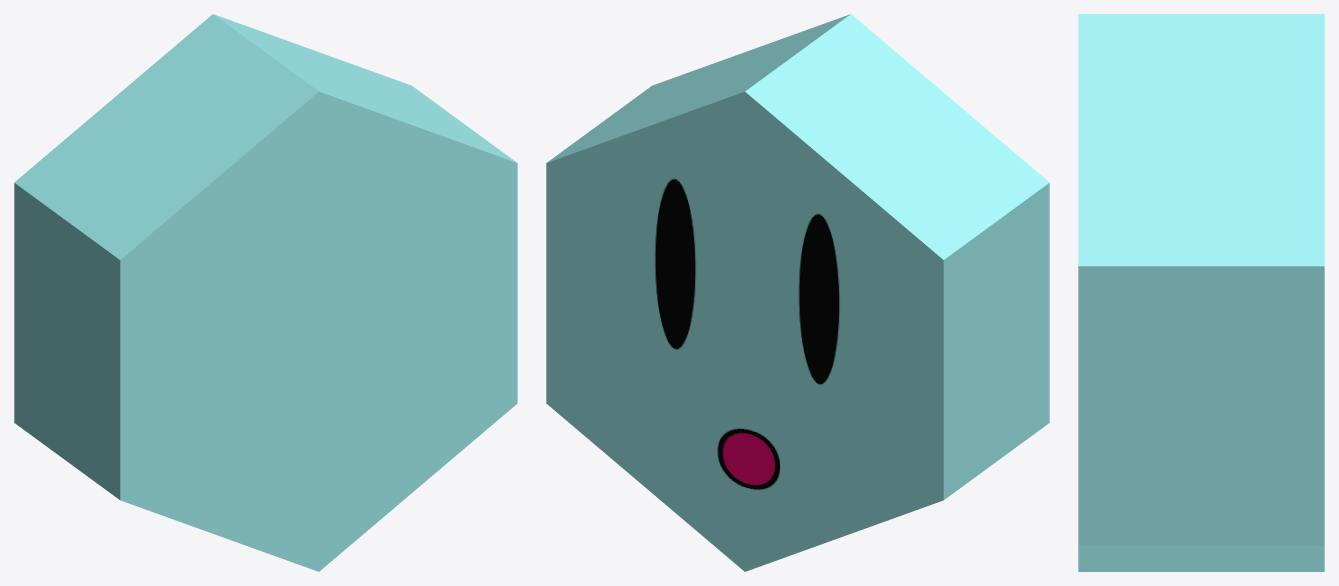
The model's file is reflectEnemy.obj.
3 views of the same model, side by side, from view 1: azimuth 30°, elevation 25°; view 2: azimuth 150°, elevation 25°; view 3: azimuth 270°, elevation 25° (orthographic). The views are drawn at different scales.
Visible parts, largest first — view 1: 円柱; view 2: 円柱; view 3: 円柱.
Boxes of the visible parts, bbox=[...] form: 円柱: bbox=[14, 14, 517, 571]; 円柱: bbox=[546, 14, 1049, 571]; 円柱: bbox=[1078, 14, 1324, 571].
Bounding box in the file's own units: 1.73 × 2 × 0.8.
Materials: 1 (1 with a texture image).
